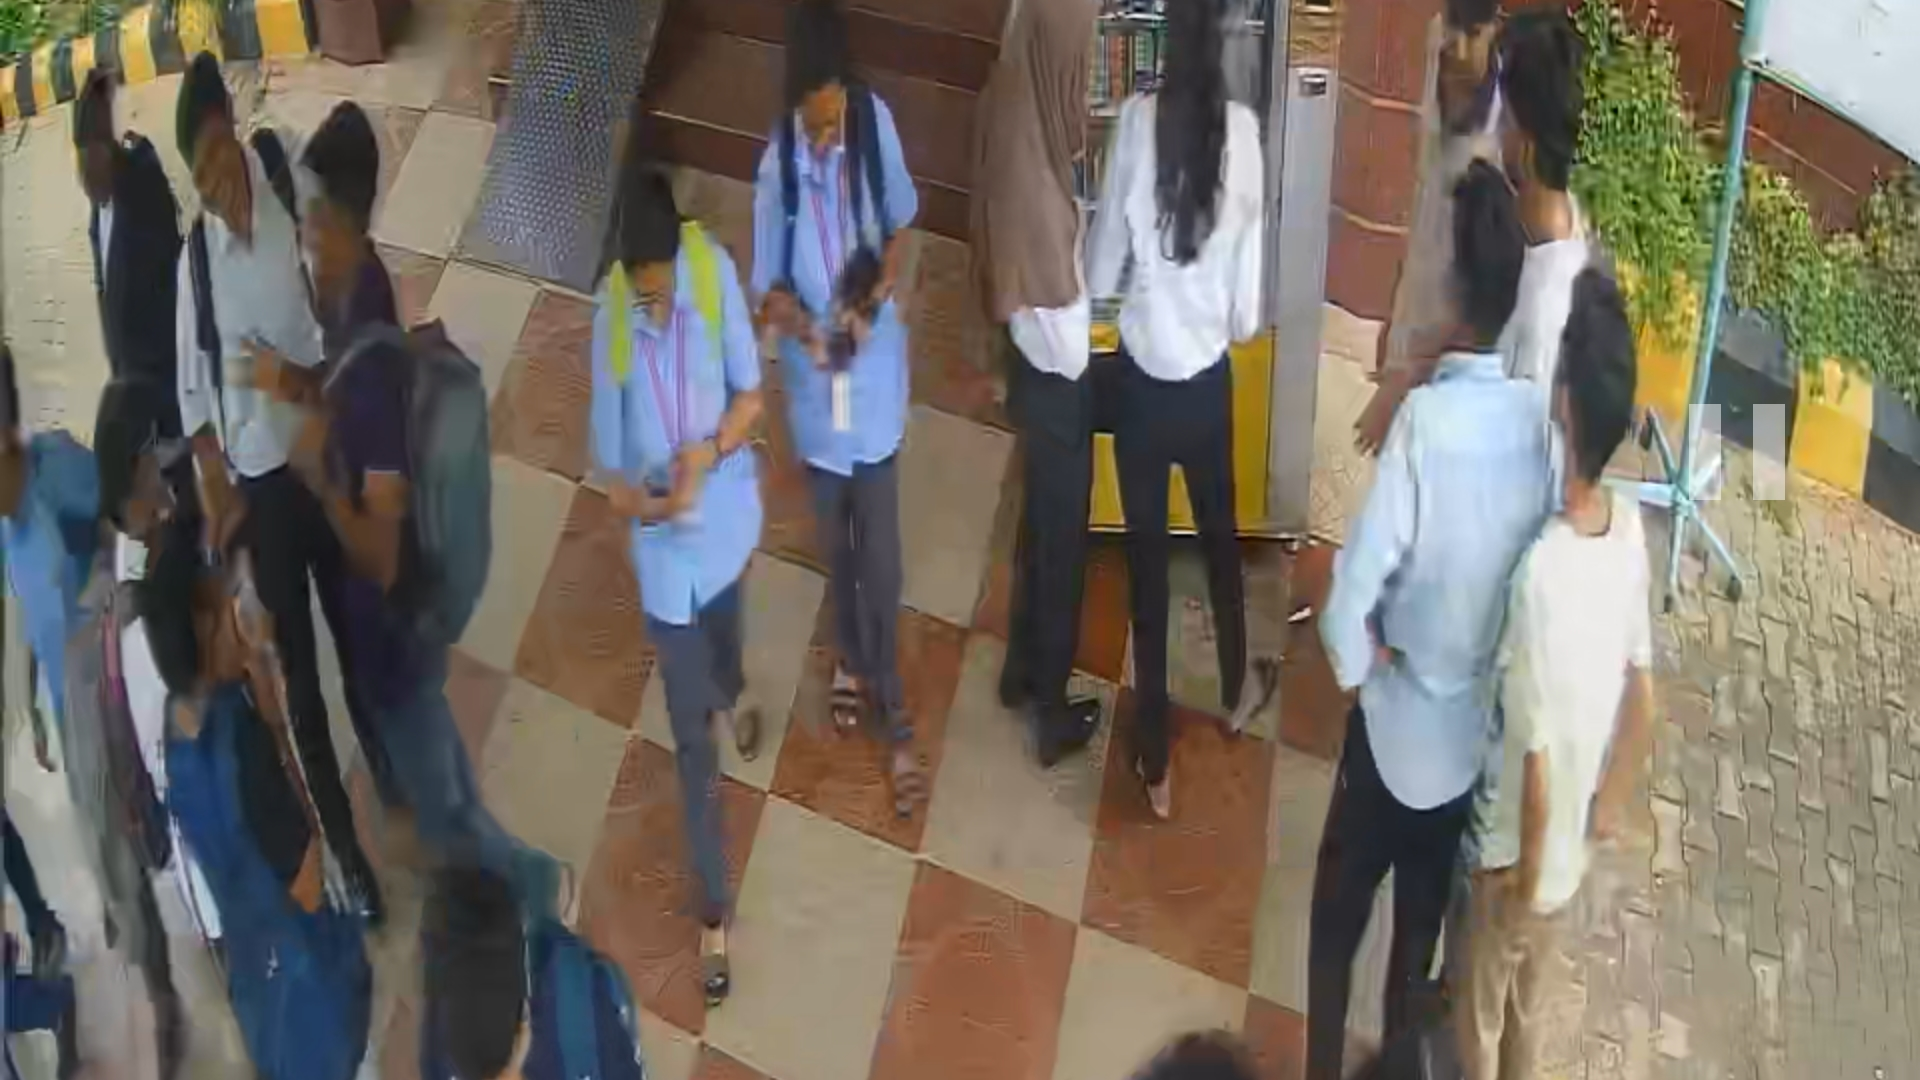not intruder: (575, 199, 773, 994), (766, 11, 939, 844)
